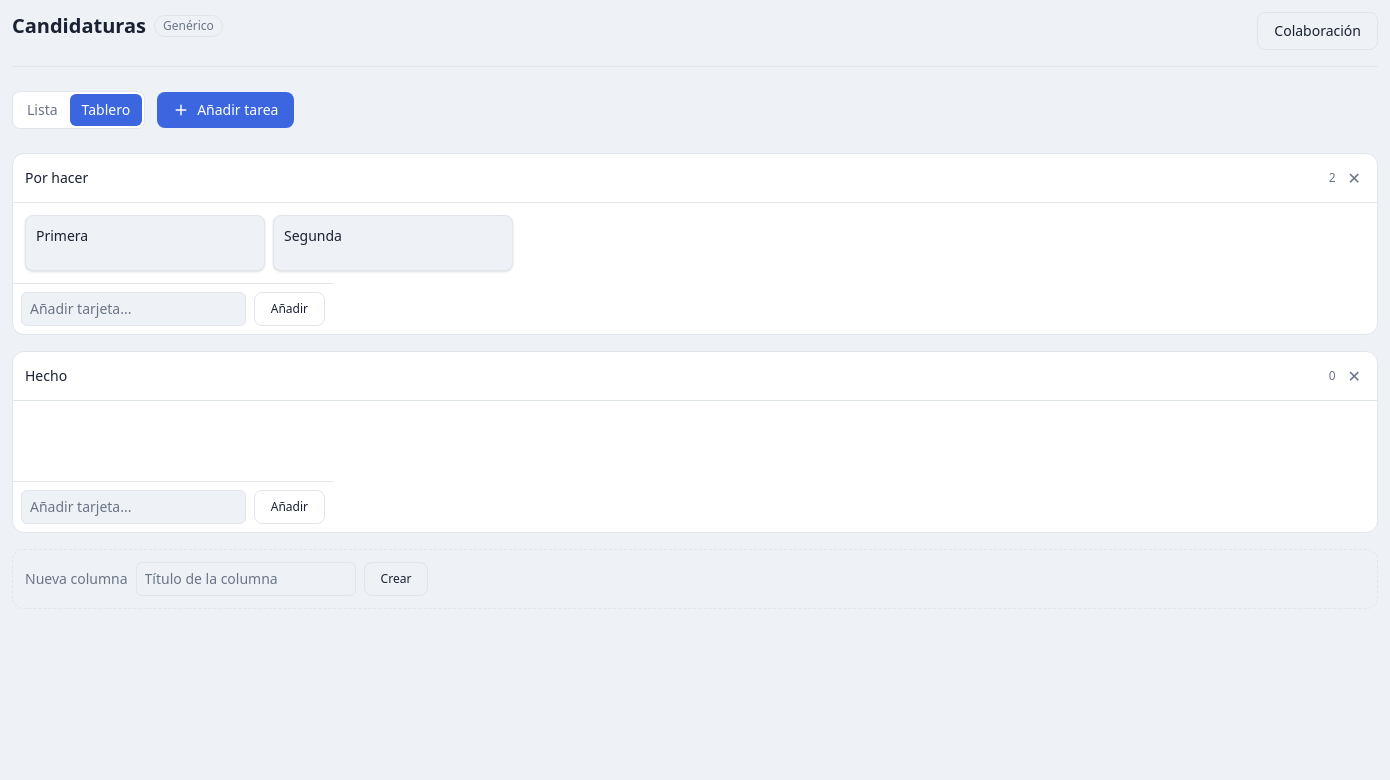
it: BoardPage › crea una tarjeta desde el alta rápida de una columna
Expected: the button "Hecho" is shown, [25,366,1321,386]
Step 1. Type "Tarea nueva" into the field named "Añadir tarjeta a Hecho" → (133, 507), box [21,490,246,524]
Then press Enter
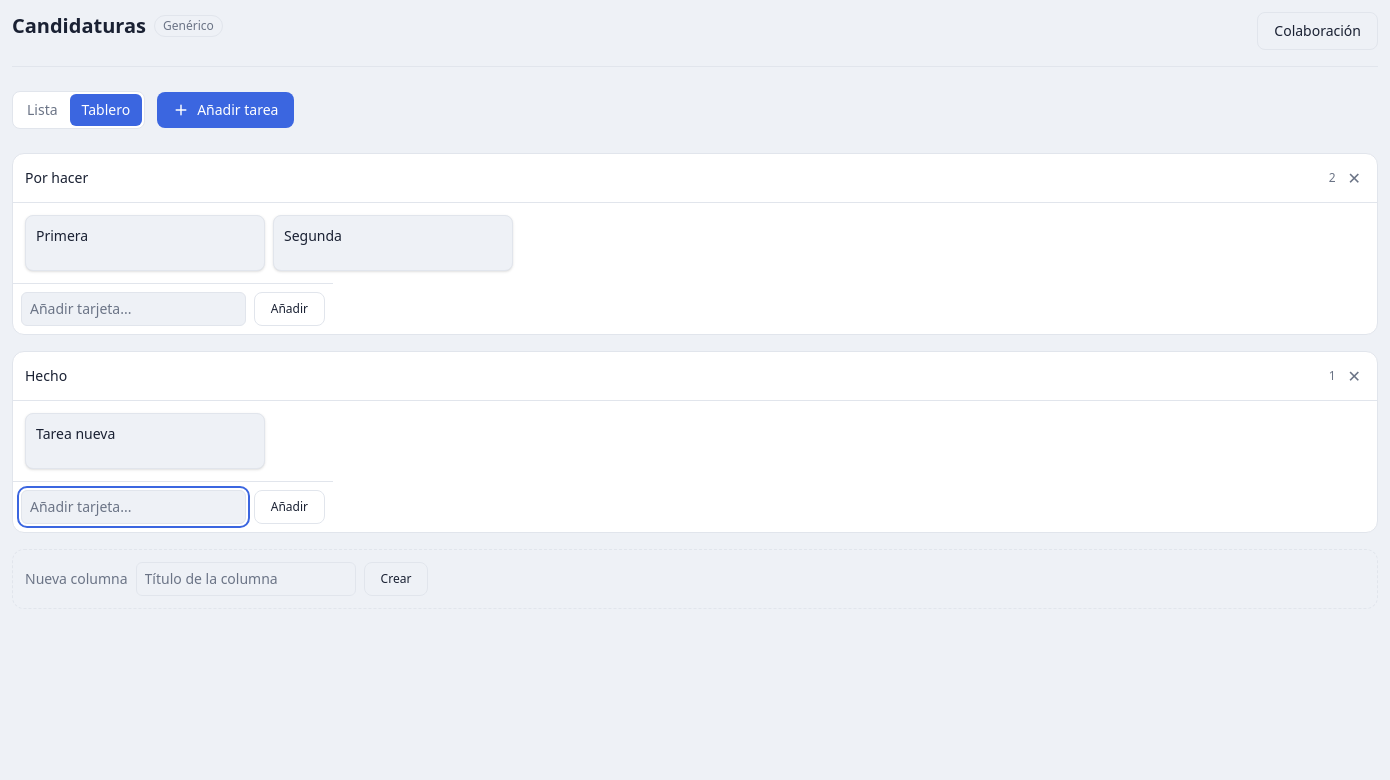
Expected: the text "Tarea nueva" is shown, [36,424,115,444]
